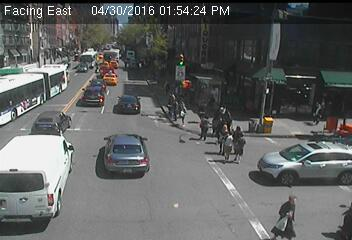neg: (332, 203, 351, 234), (21, 177, 42, 204), (40, 115, 60, 142), (166, 144, 186, 171), (279, 147, 299, 173), (255, 111, 272, 134), (116, 141, 133, 163), (324, 153, 339, 173), (23, 66, 38, 86), (178, 58, 192, 77), (88, 89, 101, 105), (263, 76, 274, 91), (111, 95, 122, 110), (206, 80, 217, 94), (126, 55, 136, 68), (298, 78, 307, 91), (173, 200, 181, 212)
pos: (272, 193, 306, 237), (230, 132, 253, 164), (220, 132, 241, 161), (196, 113, 216, 141), (308, 100, 328, 126), (174, 100, 193, 125), (215, 124, 233, 149), (230, 123, 248, 147), (164, 92, 182, 116)
